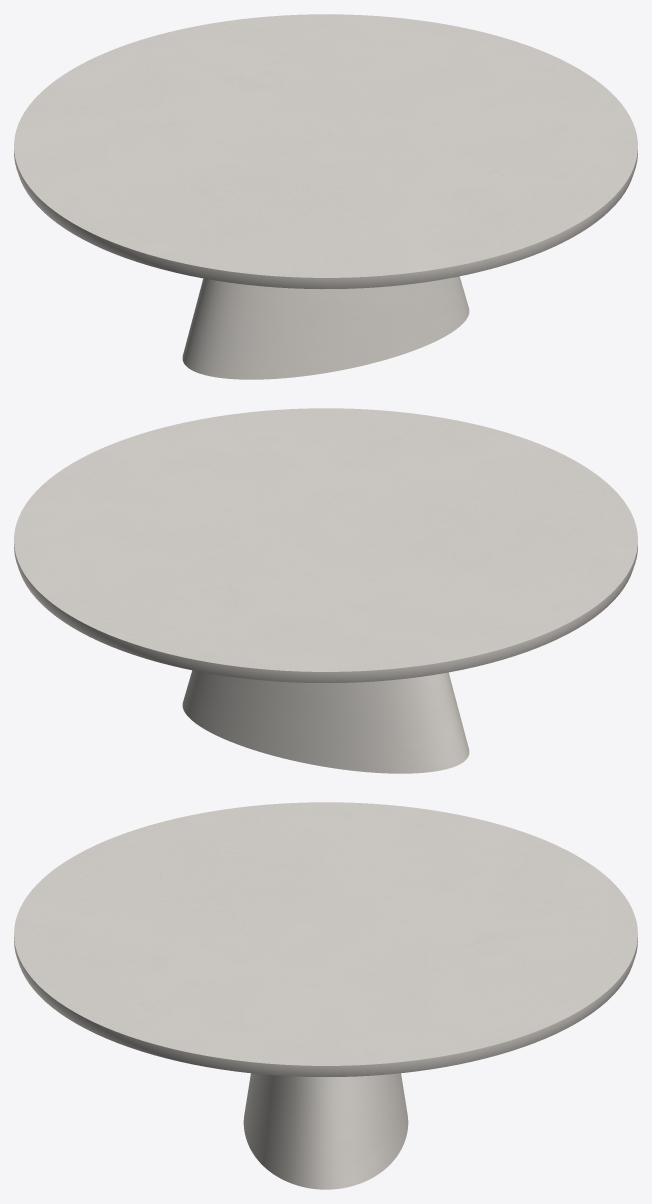
Rendered from pearlwhite_round_facet_eqone.glb.
The picture shows the model from 3 angles, top to bottom: view 1: azimuth 30°, elevation 25°; view 2: azimuth 150°, elevation 25°; view 3: azimuth 270°, elevation 25°; orthographic projection.
Parts seen in each view (by area): view 1: tabletop_round_facet.001, tableleg_eqone.014; view 2: tabletop_round_facet.001, tableleg_eqone.014; view 3: tabletop_round_facet.001, tableleg_eqone.014.
Part boxes in pixels (box(x1,y1,x2,y2)): tabletop_round_facet.001: box(14, 14, 637, 289); tableleg_eqone.014: box(182, 276, 469, 379); tabletop_round_facet.001: box(14, 408, 637, 683); tableleg_eqone.014: box(182, 670, 469, 773); tabletop_round_facet.001: box(14, 802, 637, 1077); tableleg_eqone.014: box(243, 1073, 408, 1189).
Size of the model in its own units: 7.5 by 2.5 by 7.5.
1 material, 1 textured.
